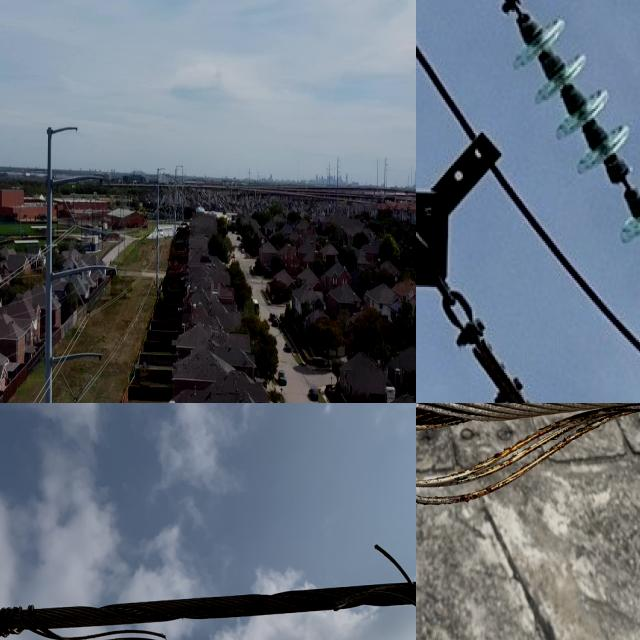正常绝缘子: (475, 0, 640, 301), (72, 196, 94, 227), (73, 281, 92, 316), (60, 368, 79, 403), (85, 286, 106, 316), (60, 192, 79, 225), (74, 374, 93, 403)
电缆破损: (0, 539, 416, 640), (416, 403, 640, 519)
绝缘子破损: (602, 162, 640, 203)
